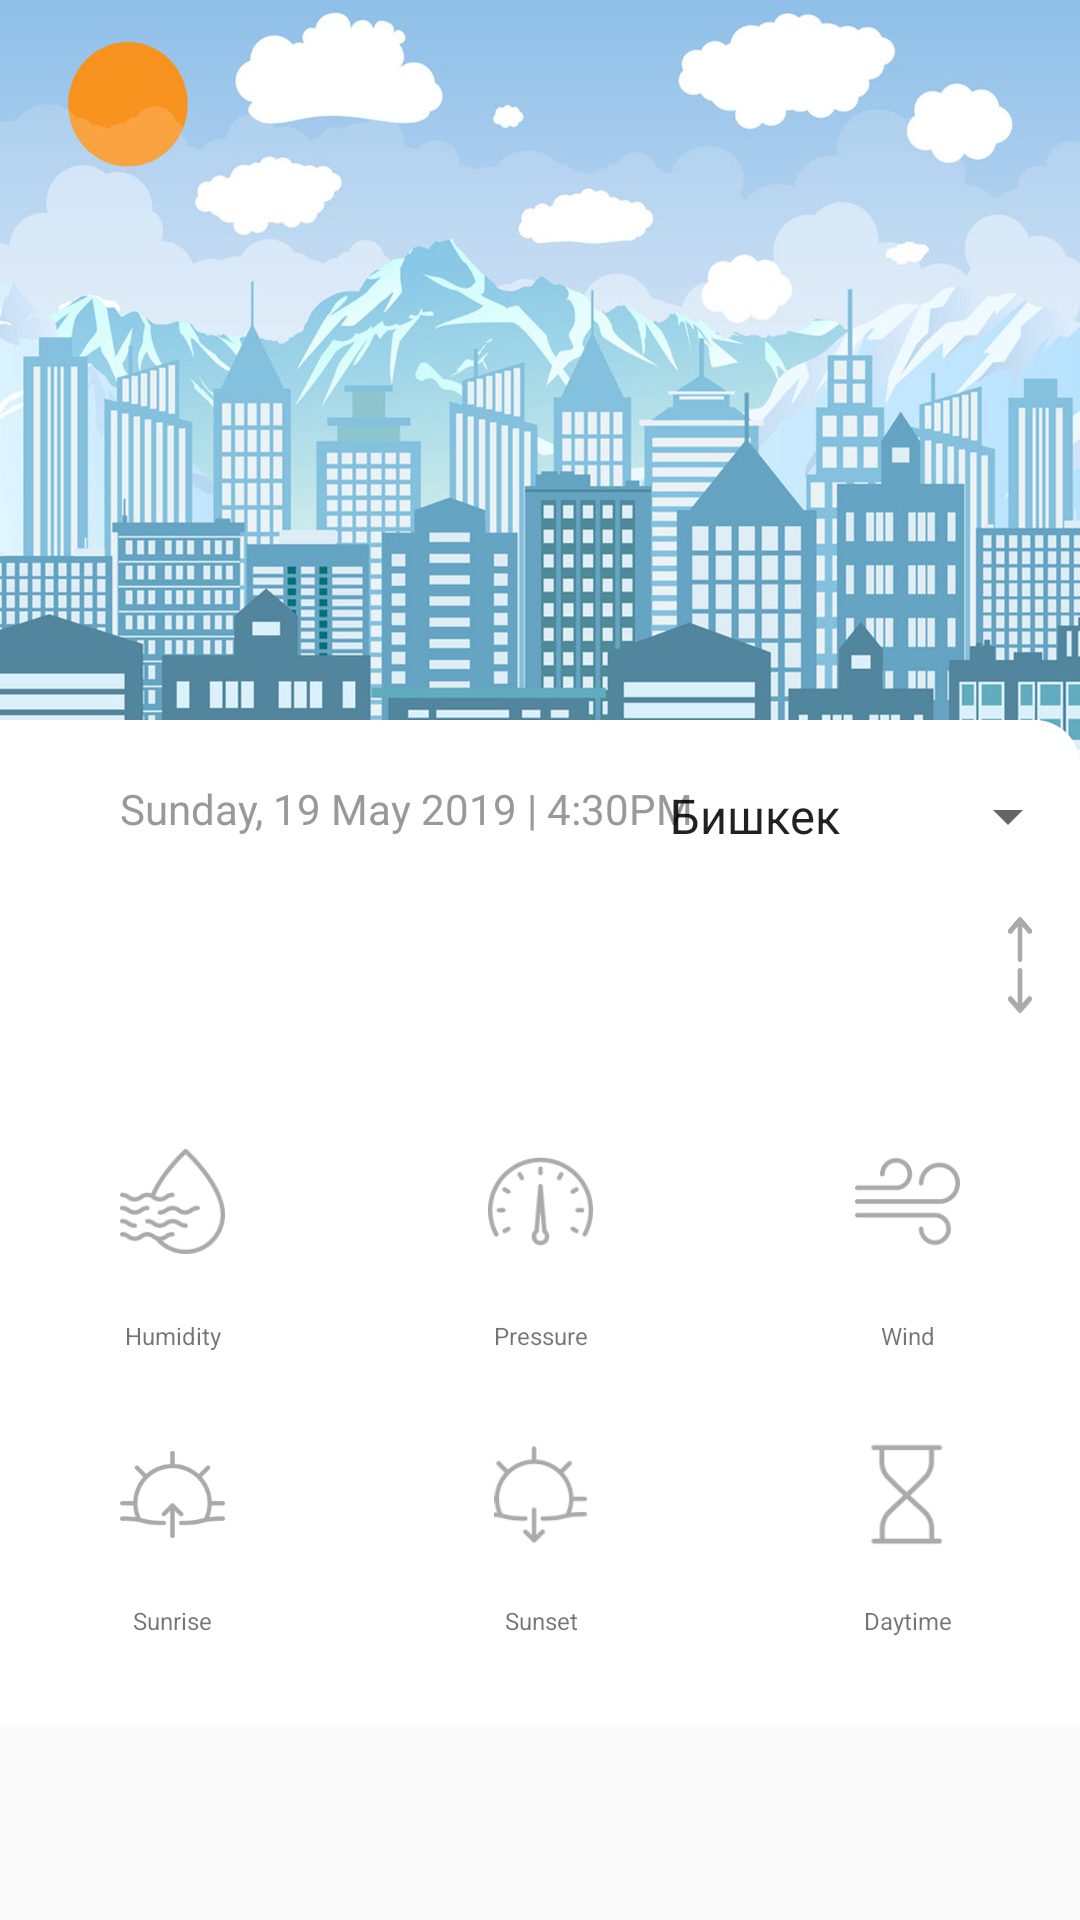

Screen size 1080×1920. Icon name, then its box in pixels as (x1, y1, x2, y2):
barometer: (488, 1158, 593, 1245)
bottom: (1008, 968, 1032, 1013)
clock: (871, 1445, 942, 1544)
top: (1008, 917, 1032, 962)
